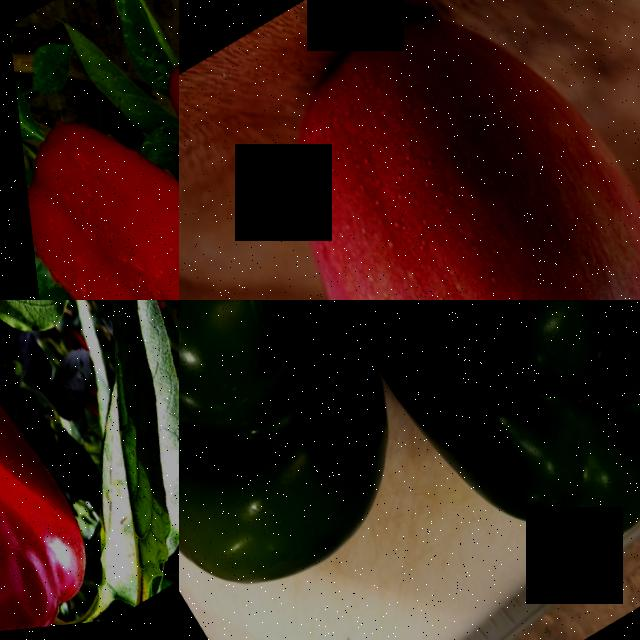apple: (189, 0, 640, 300)
bell pepper: (307, 300, 640, 609), (179, 300, 446, 640), (0, 300, 105, 640), (14, 102, 179, 300), (139, 0, 179, 300)
